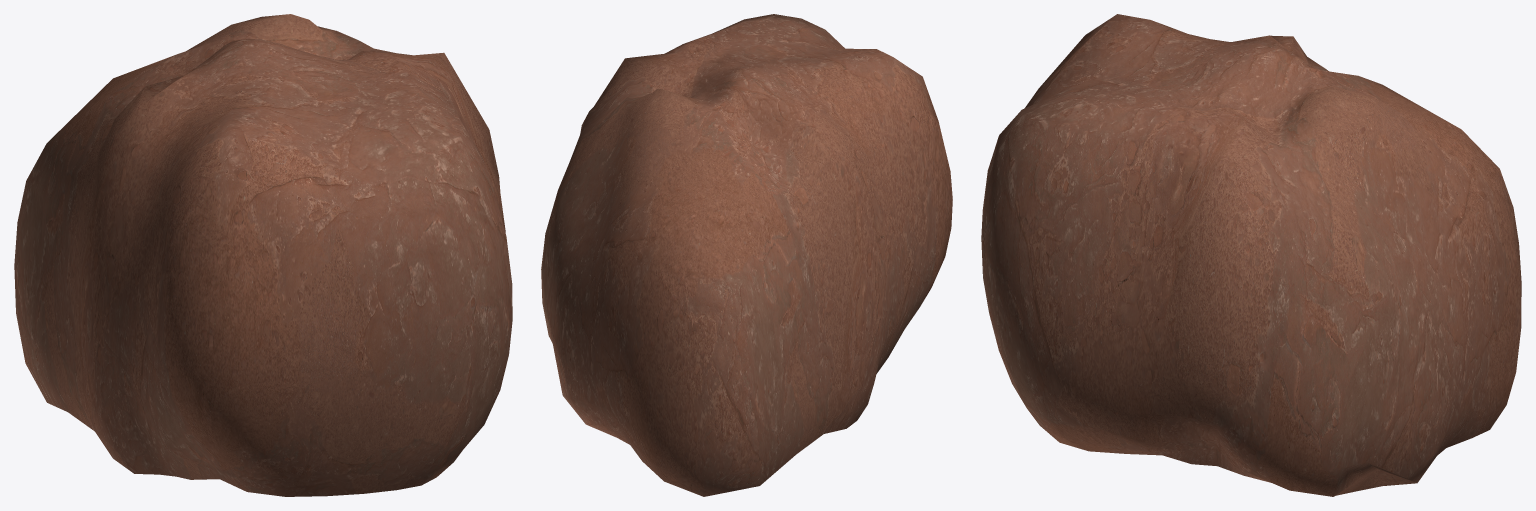
Rendered from Rock_04.glb.
3 views of the same model, side by side, from view 1: azimuth 30°, elevation 25°; view 2: azimuth 150°, elevation 25°; view 3: azimuth 270°, elevation 25° (orthographic). The views are drawn at different scales.
Parts seen in each view (by area): view 1: Rock_04; view 2: Rock_04; view 3: Rock_04.
Part boxes in pixels (bbox=[...]): Rock_04: bbox=[14, 14, 512, 496]; Rock_04: bbox=[541, 14, 952, 496]; Rock_04: bbox=[981, 14, 1521, 496].
Size of the model in its own units: 3.91 by 4.04 by 5.01.
1 material, 1 textured.
